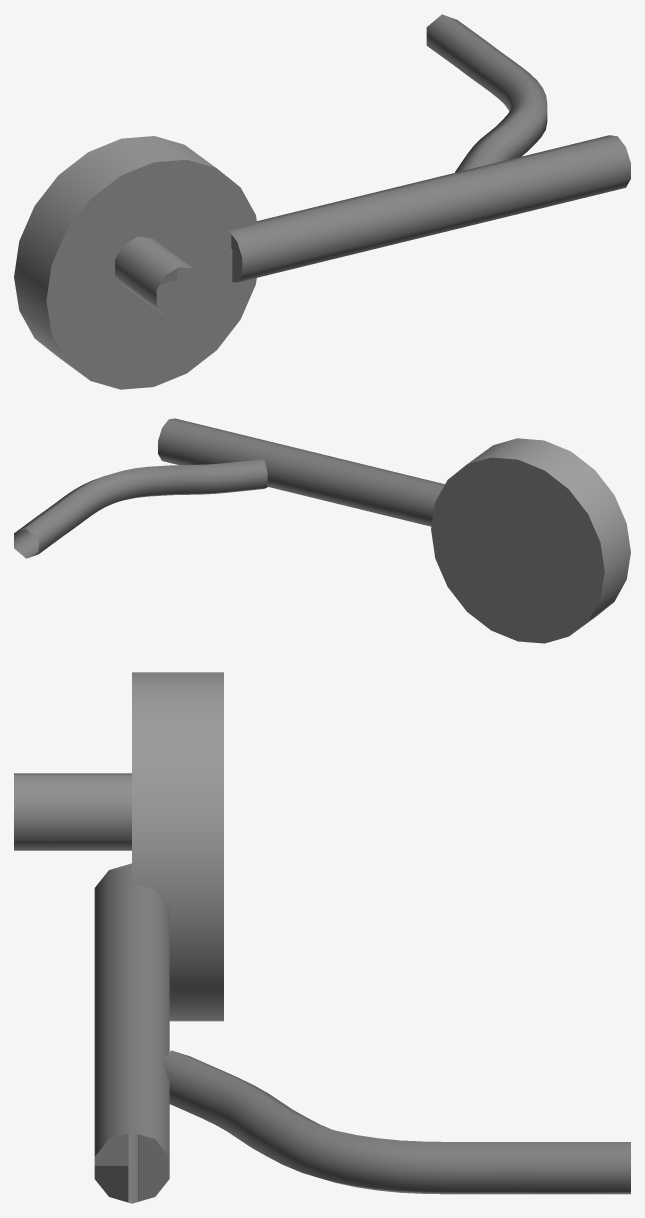
3 renders of one model, top to bottom at view 1: azimuth 30°, elevation 25°; view 2: azimuth 150°, elevation 25°; view 3: azimuth 270°, elevation 25°, orthographic. The views are drawn at different scales.
Size of the model in its own units: 0.7323 by 0.268 by 0.47.
